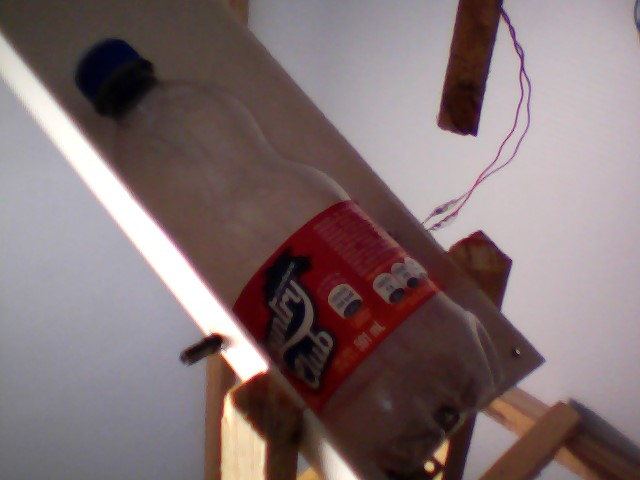plastico: (67, 32, 507, 477)
